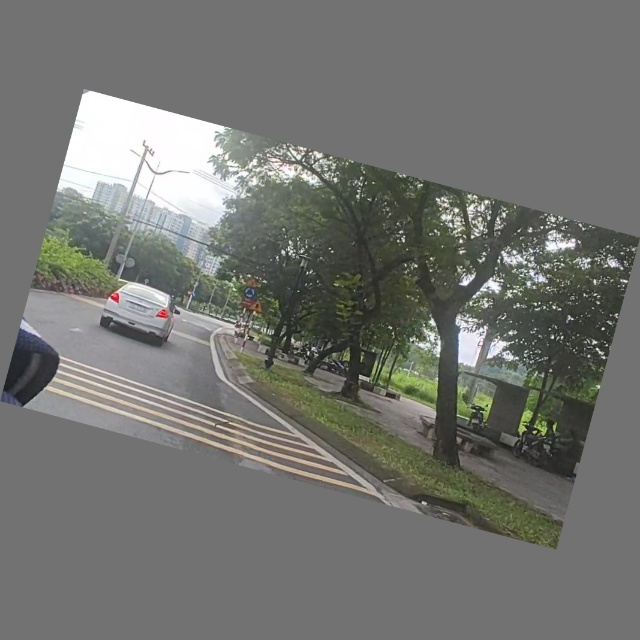P.102: (185, 290, 192, 296)
R.302a: (190, 292, 198, 299)
R.303: (242, 286, 258, 301)
W.207: (249, 299, 266, 314)
W.224: (245, 277, 259, 289)
